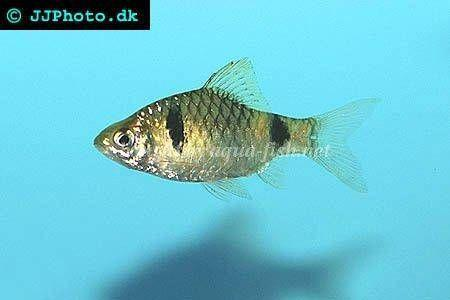Black Spotted Barb: (94, 55, 382, 205)
